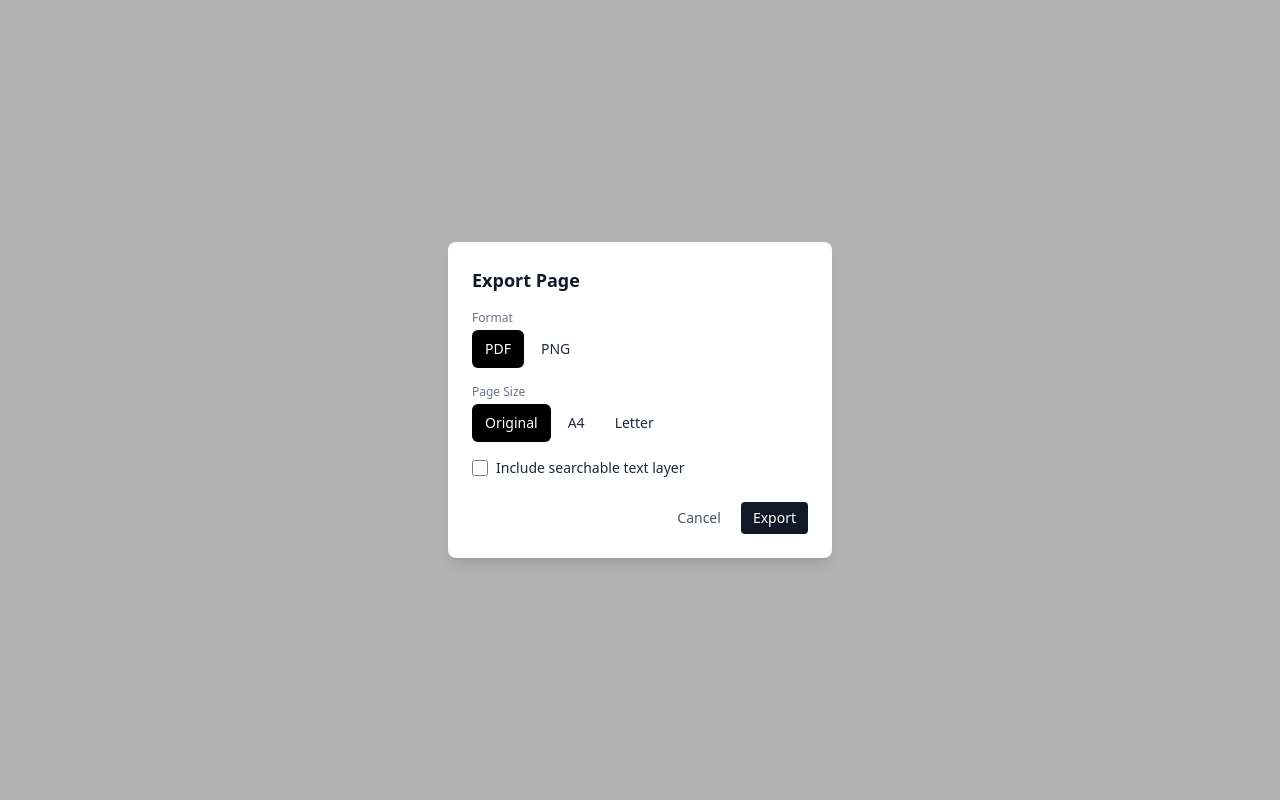
Test: ExportDialog › shows PNG scale options when PNG format is selected
Click the button with test id "format-png". click: [556, 349]
box: [528,330,583,368]
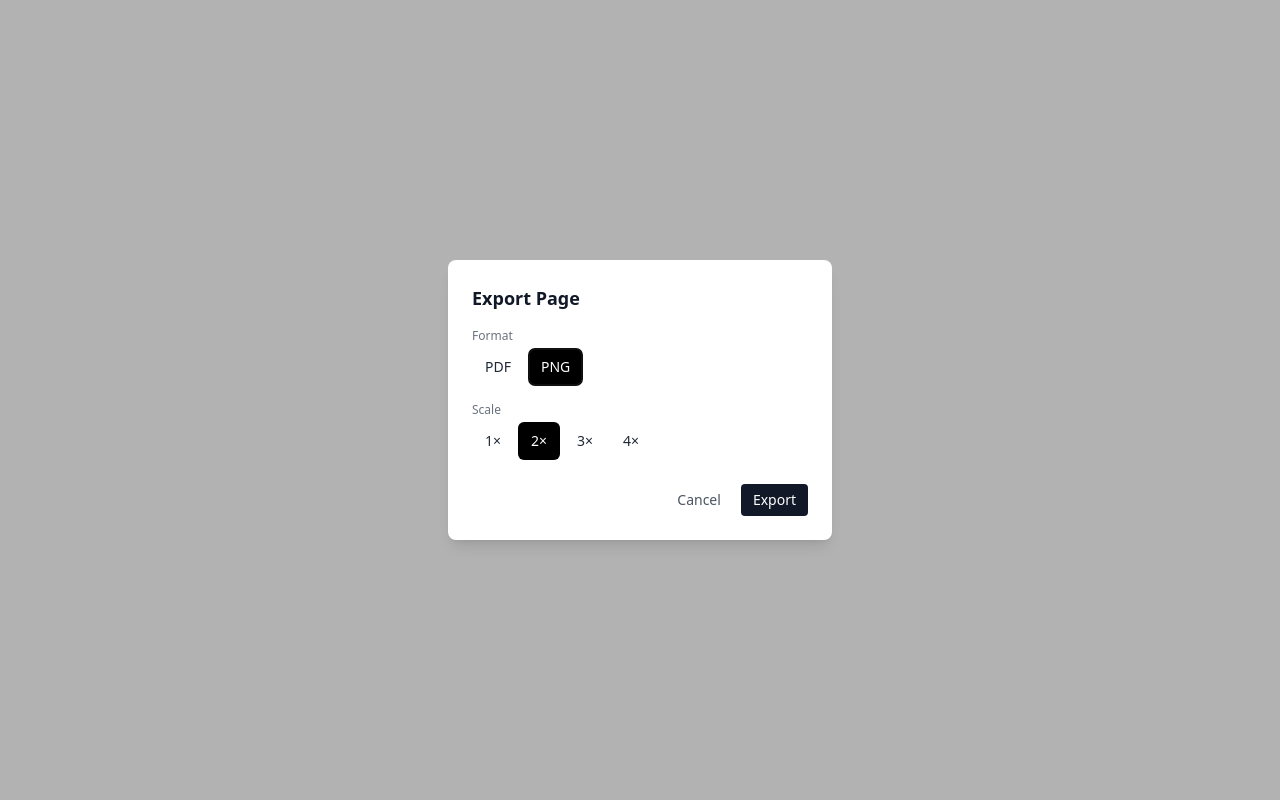
expect the button with test id "scale-1" is shown: met, box [472,422,514,460]
expect the button with test id "scale-2" is shown: met, box [518,422,560,460]
expect the button with test id "scale-3" is shown: met, box [564,422,606,460]
